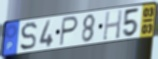4: (38, 18, 55, 49)
5: (122, 6, 143, 39)
8: (81, 14, 97, 44)
H: (102, 9, 124, 42)
P: (58, 15, 80, 47)
S: (19, 21, 39, 52)
